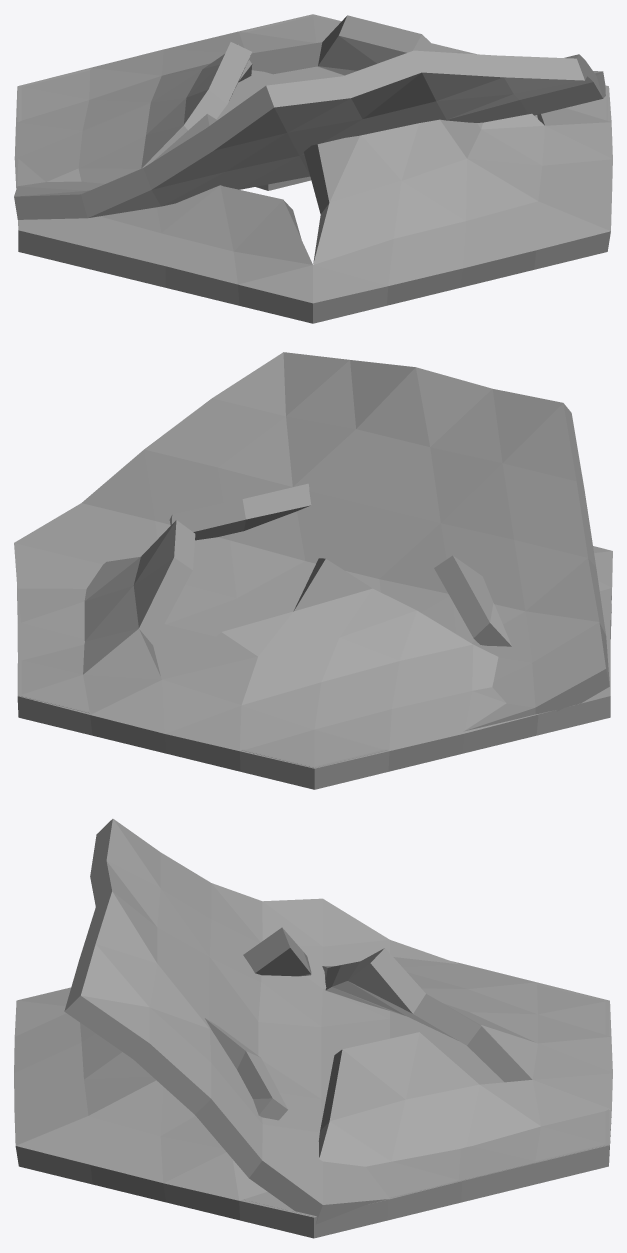
Rendered from Broken Panels.fbx.
3 views of the same model, one above another, from view 1: azimuth 30°, elevation 25°; view 2: azimuth 150°, elevation 25°; view 3: azimuth 270°, elevation 25° (orthographic).
Visible parts, largest first — view 1: Broken_Hex_3, Broken_Hex_2; view 2: Broken_Hex_2, Broken_Hex_3, Broken_Hex_1; view 3: Broken_Hex_3, Broken_Hex_2.
Boxes of the visible parts, x1,y1,x2,y2 form: Broken_Hex_3: (14,14,612,323); Broken_Hex_2: (14,14,605,219); Broken_Hex_2: (14,352,609,767); Broken_Hex_3: (17,483,612,789); Broken_Hex_1: (18,588,253,753); Broken_Hex_3: (14,927,612,1238); Broken_Hex_2: (64,819,608,1224).
Bounding box in the file's own units: 2 × 0.661 × 1.76.
